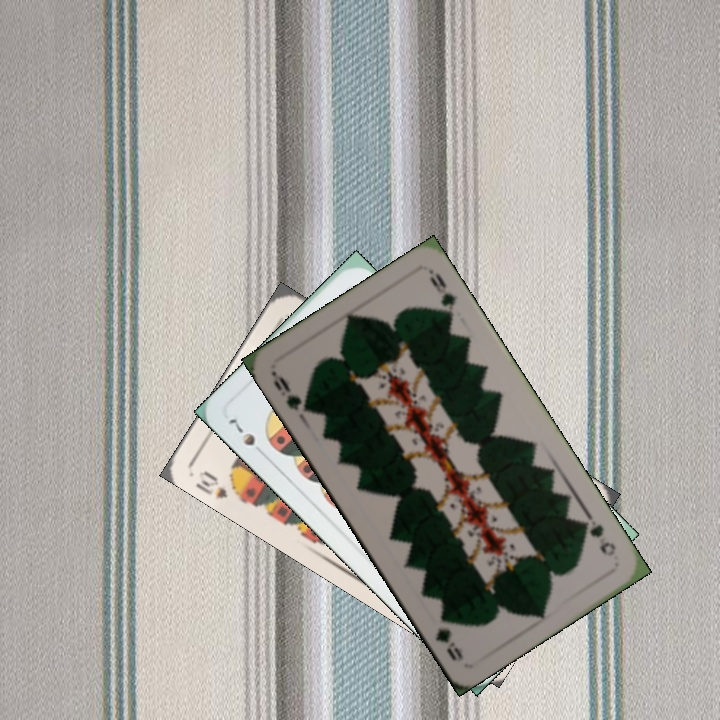G9: (268, 368, 315, 415), (576, 516, 619, 559)
S10: (192, 466, 244, 503)
S7: (224, 414, 269, 460)
